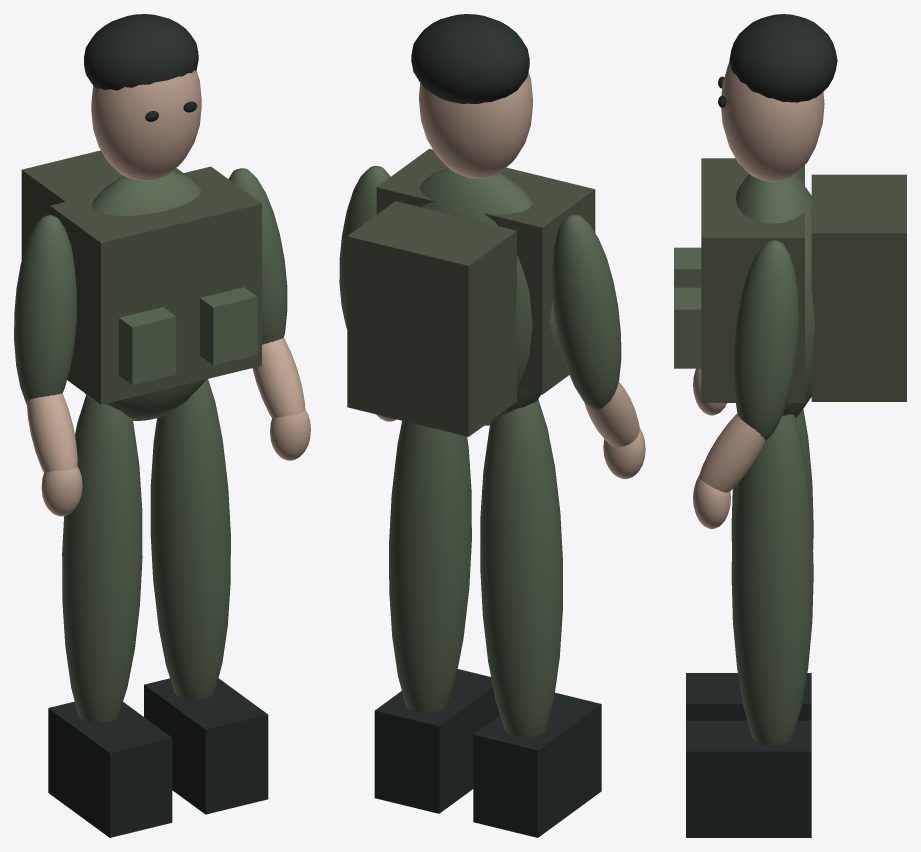
The model's file is ethan.glb.
3 renders of one model, left to right at view 1: azimuth 30°, elevation 25°; view 2: azimuth 150°, elevation 25°; view 3: azimuth 270°, elevation 25°, orthographic. The views are drawn at different scales.
Parts seen in each view (by area): view 1: Vest, Trouser leg, Trouser leg.001, Boot, Boot.001, Sleeve.002, Head, Hair cap, Jacket, Backpack, Vest pouch, Vest pouch.001 (+5 smaller); view 2: Backpack, Trouser leg, Trouser leg.001, Boot, Boot.001, Vest, Sleeve.002, Hair cap, Head, Jacket, Sleeve.003, Forearm (+1 smaller); view 3: Trouser leg.001, Backpack, Boot.001, Vest, Sleeve.003, Head, Hair cap, Jacket, Boot, Forearm.001, Vest pouch.001, Hand.003 (+3 smaller).
Boxes of the visible parts, x1=… form: Vest: x1=50, y1=166, x2=261, y2=404; Trouser leg: x1=62, y1=395, x2=142, y2=722; Trouser leg.001: x1=150, y1=379, x2=230, y2=699; Boot: x1=48, y1=701, x2=172, y2=837; Boot.001: x1=144, y1=678, x2=268, y2=814; Sleeve.002: x1=14, y1=215, x2=76, y2=404; Head: x1=91, y1=70, x2=201, y2=181; Hair cap: x1=84, y1=14, x2=198, y2=90; Jacket: x1=85, y1=171, x2=206, y2=420; Backpack: x1=21, y1=150, x2=183, y2=259; Vest pouch: x1=119, y1=307, x2=176, y2=385; Vest pouch.001: x1=200, y1=287, x2=257, y2=365; Backpack: x1=347, y1=201, x2=516, y2=436; Trouser leg: x1=480, y1=399, x2=562, y2=736; Trouser leg.001: x1=389, y1=420, x2=471, y2=712; Boot: x1=473, y1=692, x2=601, y2=837; Boot.001: x1=374, y1=669, x2=499, y2=813; Vest: x1=376, y1=148, x2=595, y2=394; Sleeve.002: x1=552, y1=214, x2=621, y2=410; Hair cap: x1=411, y1=14, x2=529, y2=103; Head: x1=419, y1=72, x2=532, y2=178; Jacket: x1=419, y1=168, x2=560, y2=425; Sleeve.003: x1=339, y1=166, x2=390, y2=329; Forearm: x1=584, y1=382, x2=639, y2=446; Trouser leg.001: x1=731, y1=414, x2=813, y2=744; Backpack: x1=811, y1=174, x2=906, y2=401; Boot.001: x1=686, y1=720, x2=811, y2=837; Vest: x1=701, y1=158, x2=804, y2=402; Sleeve.003: x1=733, y1=240, x2=799, y2=440; Head: x1=721, y1=62, x2=824, y2=181; Hair cap: x1=729, y1=14, x2=837, y2=102; Jacket: x1=735, y1=174, x2=814, y2=417; Boot: x1=686, y1=673, x2=811, y2=720; Forearm.001: x1=699, y1=413, x2=765, y2=492; Vest pouch.001: x1=674, y1=287, x2=701, y2=368; Hand.003: x1=693, y1=476, x2=730, y2=528.
Size of the model in its own units: 0.72 by 1.98 by 0.5375.
